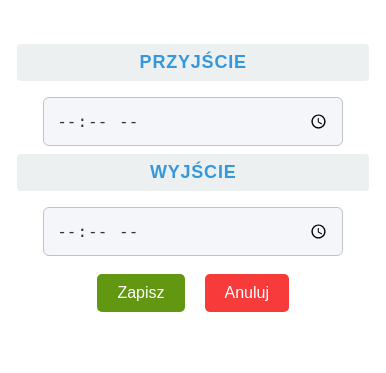
Test case: TimesInput › display error message when check-out but no check-it value was provided and save button was clicked
In the time field with test id "time-selector-check-out-input": (193, 231) [43,207,343,256], type "16:00"
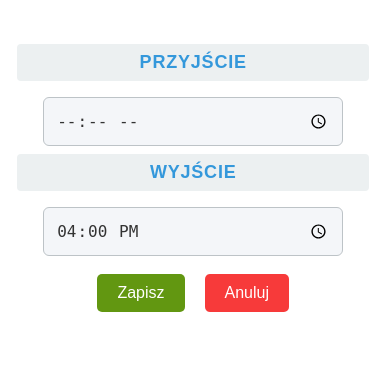
Click the button with test id "times-input-save-button": click(141, 293) [97,274,184,312]
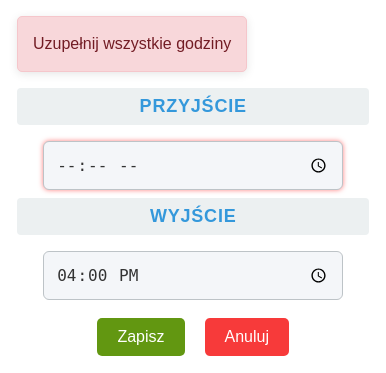
Result: the element with test id "times-input-error" is shown at [17,16,247,72]
Result: the element with test id "times-input-error" reads "Uzupełnij wszystkie godziny" at [33,35,231,52]
